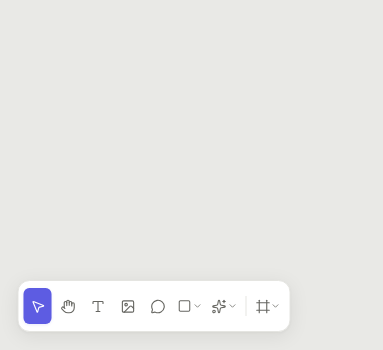
Test case: CanvasDock shape menu › opens on the shape button and lists every variant
Click the button with test id "shape-menu-button": (190, 306) [172,288,206,324]
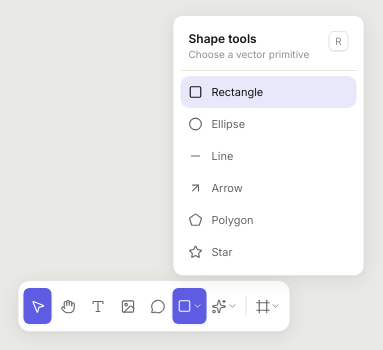
Result: the menu item with test id "shape-menu-rectangle" is shown at [180,76,356,108]
Result: the menu item with test id "shape-menu-ellipse" is shown at [180,108,356,140]
Result: the menu item with test id "shape-menu-star" is shown at [180,236,356,268]
